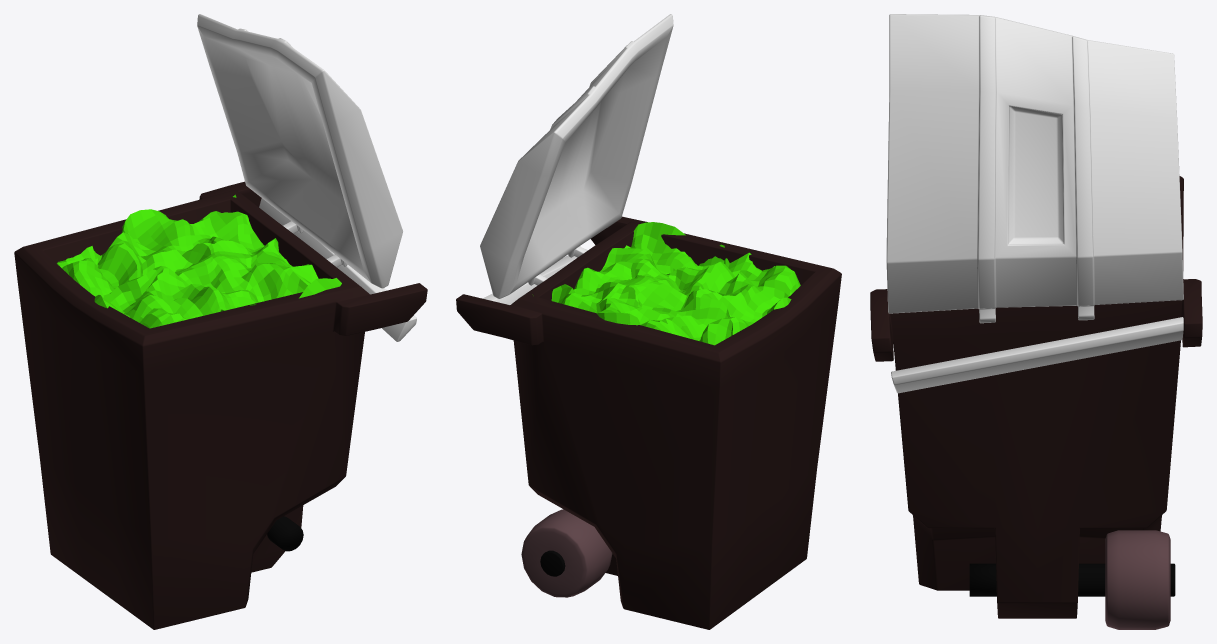
Rendered from kanta za smece2.fbx.
3 renders of one model, left to right at view 1: azimuth 30°, elevation 25°; view 2: azimuth 150°, elevation 25°; view 3: azimuth 270°, elevation 25°, orthographic. The views are drawn at different scales.
Parts seen in each view (by area): view 1: Plane; view 2: Plane; view 3: Plane.
Boxes of the visible parts, x1,y1,x2,y2 form: Plane: (14, 14, 427, 629); Plane: (456, 14, 841, 629); Plane: (870, 14, 1202, 629).
Size of the model in its own units: 202 by 364 by 180.
